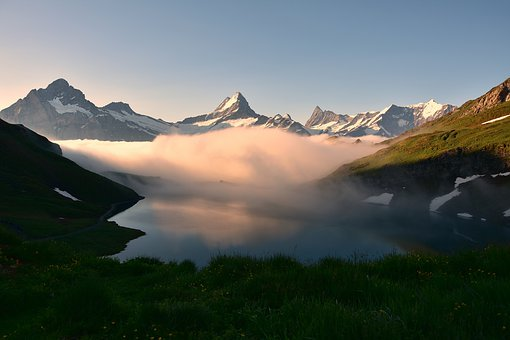forest: (18, 263, 510, 337)
lake: (137, 151, 492, 266)
mountain: (12, 83, 510, 151)
sky: (2, 2, 510, 106)
